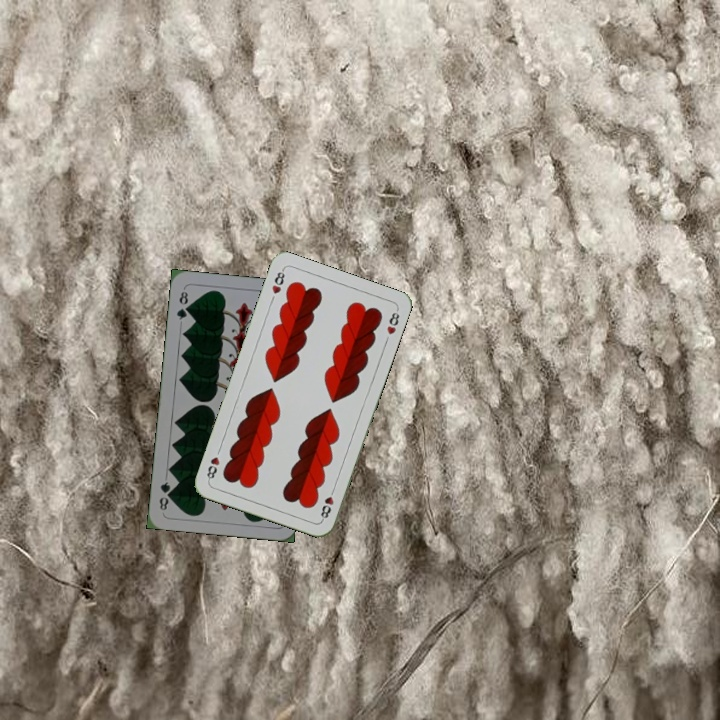G8: (172, 287, 191, 322)
H8: (317, 483, 338, 523), (268, 265, 287, 296)
